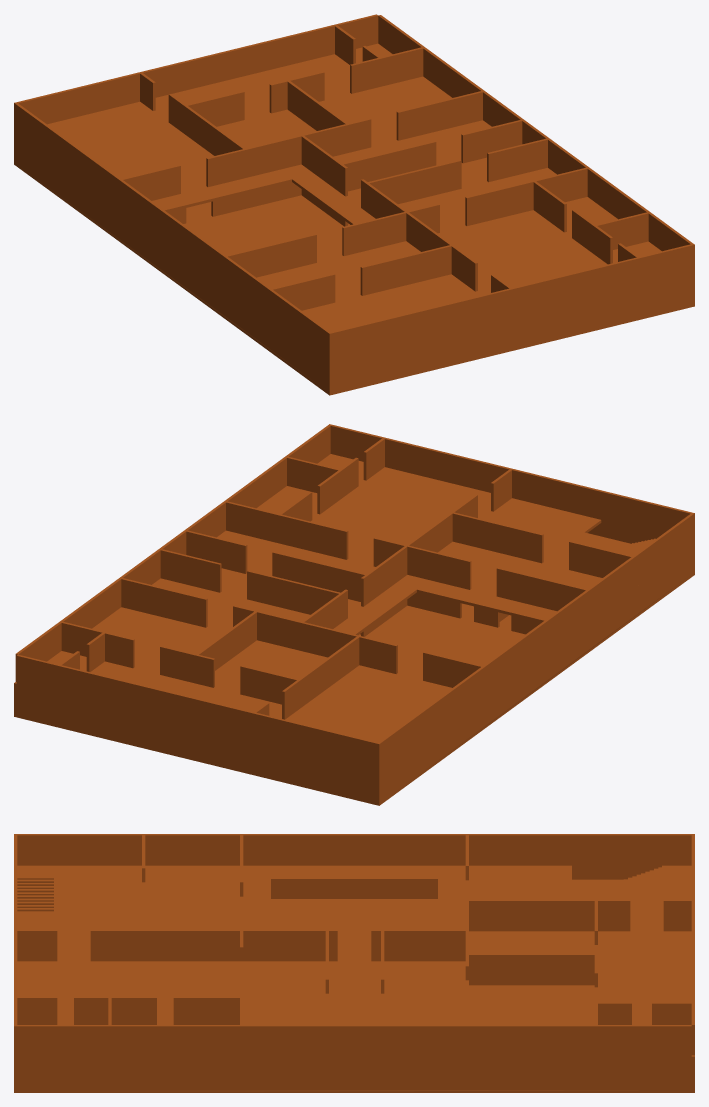
Rendered from MuseumBuilding.obj.
3 views of the same model, one above another, from view 1: azimuth 30°, elevation 25°; view 2: azimuth 150°, elevation 25°; view 3: azimuth 270°, elevation 25° (orthographic). The views are drawn at different scales.
Parts seen in each view (by area): view 1: Box011; view 2: Box011; view 3: Box011.
Part boxes in pixels (bbox=[...]): Box011: bbox=[14, 14, 694, 395]; Box011: bbox=[14, 424, 694, 805]; Box011: bbox=[14, 834, 694, 1092].
Bounding box in the file's own units: 1610 × 260 × 2409.
